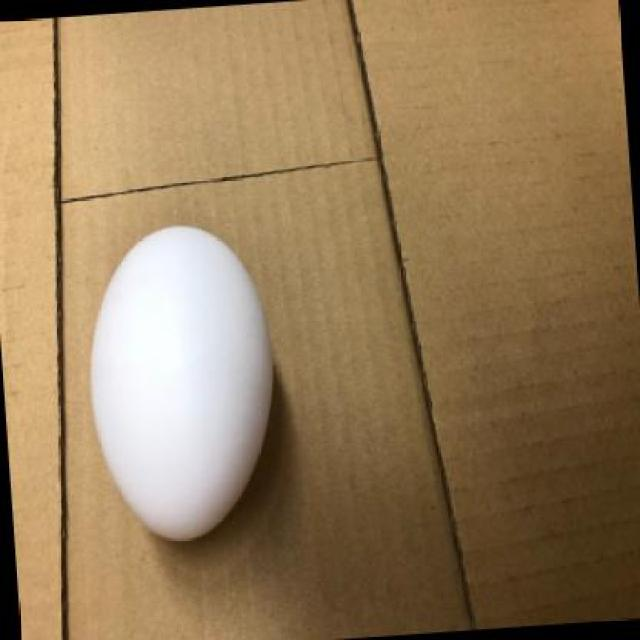egg: (85, 218, 281, 551)
